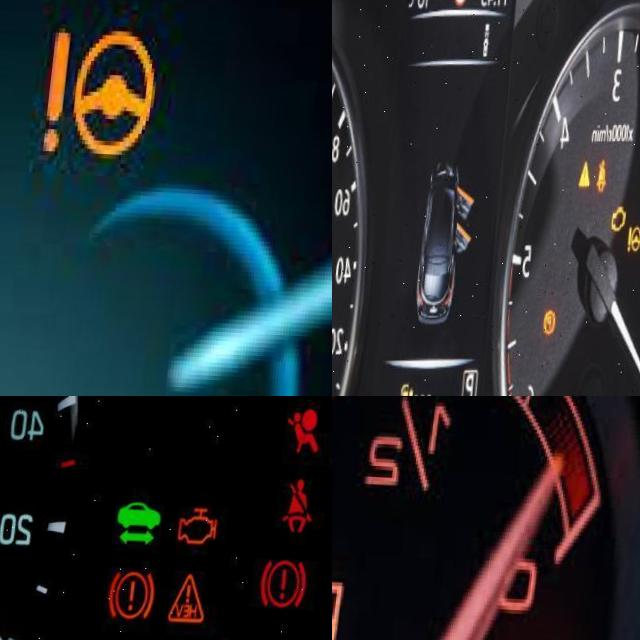Electronic Power Steering: (48, 26, 168, 161)
Seat Belt: (288, 474, 326, 530), (599, 156, 615, 187)
